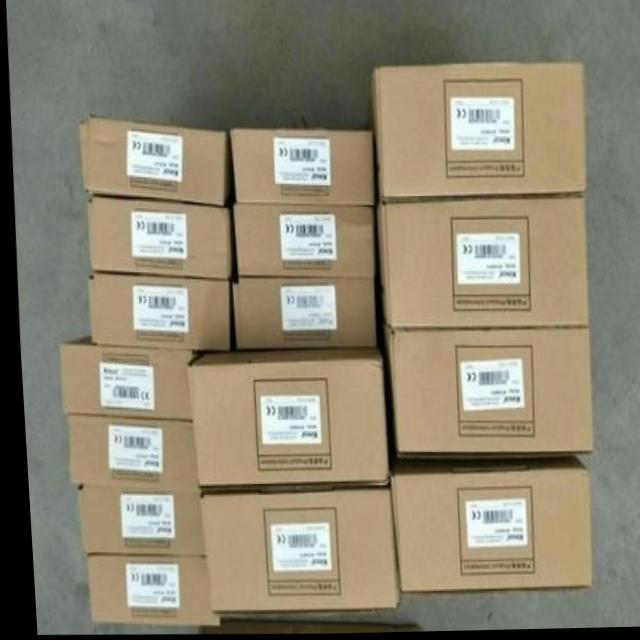box: (181, 347, 384, 490), (370, 64, 585, 199), (374, 199, 585, 331), (379, 329, 587, 457), (382, 470, 586, 596), (193, 492, 392, 616), (74, 113, 226, 207), (57, 333, 192, 422), (82, 199, 228, 280), (227, 128, 371, 207), (84, 272, 227, 349), (63, 415, 192, 497), (228, 276, 372, 349), (231, 205, 371, 278), (78, 556, 212, 625), (70, 488, 198, 554)
